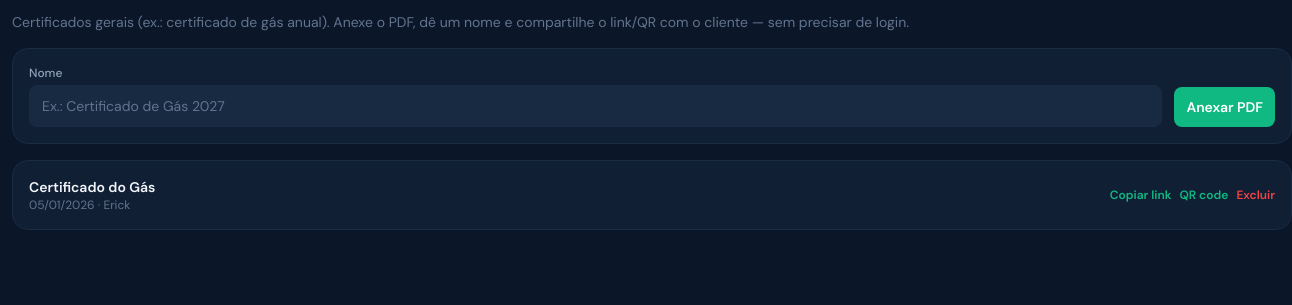
Test: CertificadosGeraisTab › mostra a mensagem do backend quando a exclusao falha (409 em uso na configuracao)
Expected: the text "Certificado do Gás" is shown, x1=29 y1=177 x2=155 y2=197
Click the button "Excluir": [1256, 195] box x1=1236 y1=187 x2=1275 y2=203
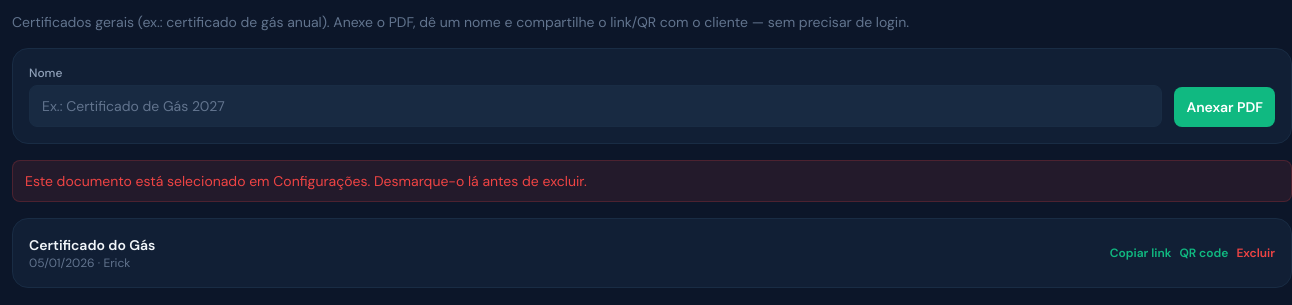
Now the text "Este documento está selecionado em Configurações. Desmarque-o lá antes de excluir." is shown, box x1=25 y1=172 x2=587 y2=190
